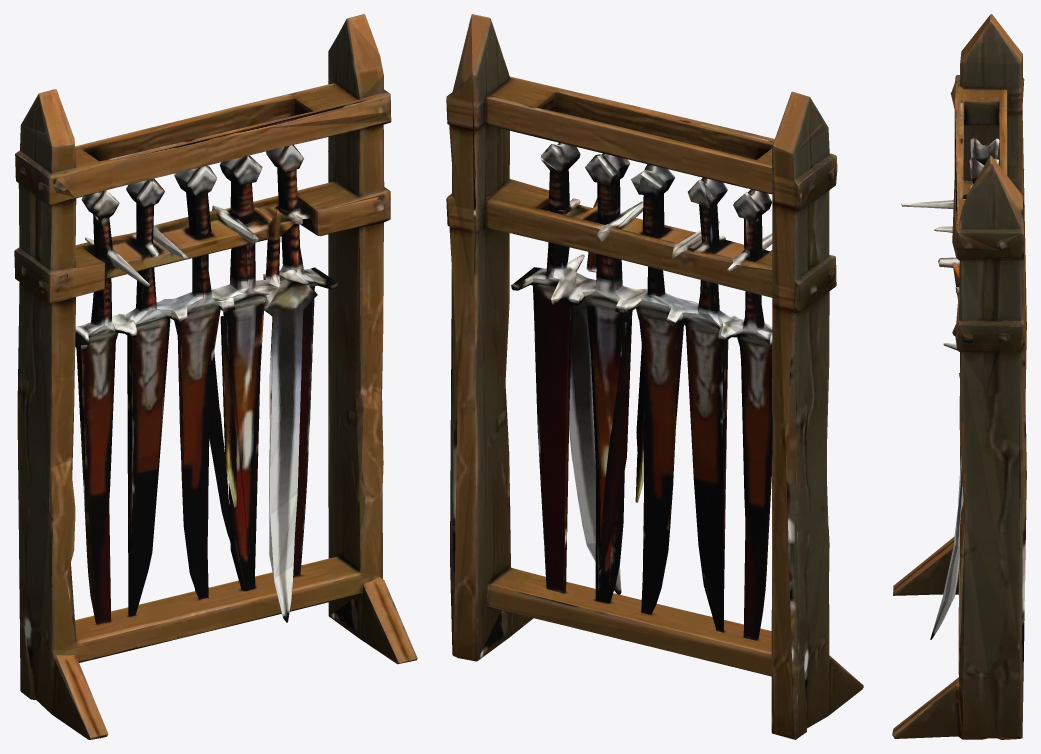
The model's file is village_weapon_rack_01.glb.
The picture shows the model from 3 angles, left to right: view 1: azimuth 30°, elevation 25°; view 2: azimuth 150°, elevation 25°; view 3: azimuth 270°, elevation 25°; orthographic projection. The views are drawn at different scales.
Visible parts, largest first — view 1: geometry_0; view 2: geometry_0; view 3: geometry_0.
Boxes of the visible parts, left/top/right/bottom form: geometry_0: left=14, top=14, right=417, bottom=739; geometry_0: left=446, top=14, right=863, bottom=739; geometry_0: left=892, top=14, right=1026, bottom=739.
Size of the model in its own units: 0.5995 by 0.9982 by 0.2121.
Materials: 1 (1 with a texture image).
